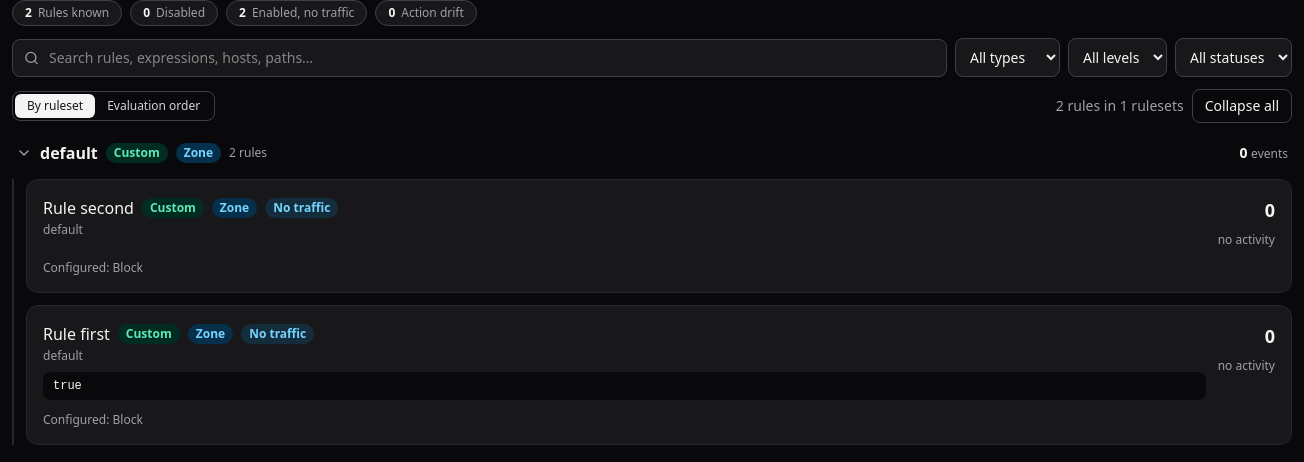
it: RulesReview grouped by ruleset › switches to evaluation order: entrypoint first, then the executed ruleset's rules in position
Click the button "Evaluation order" at [154, 106], box left=95, top=94, right=212, bottom=118
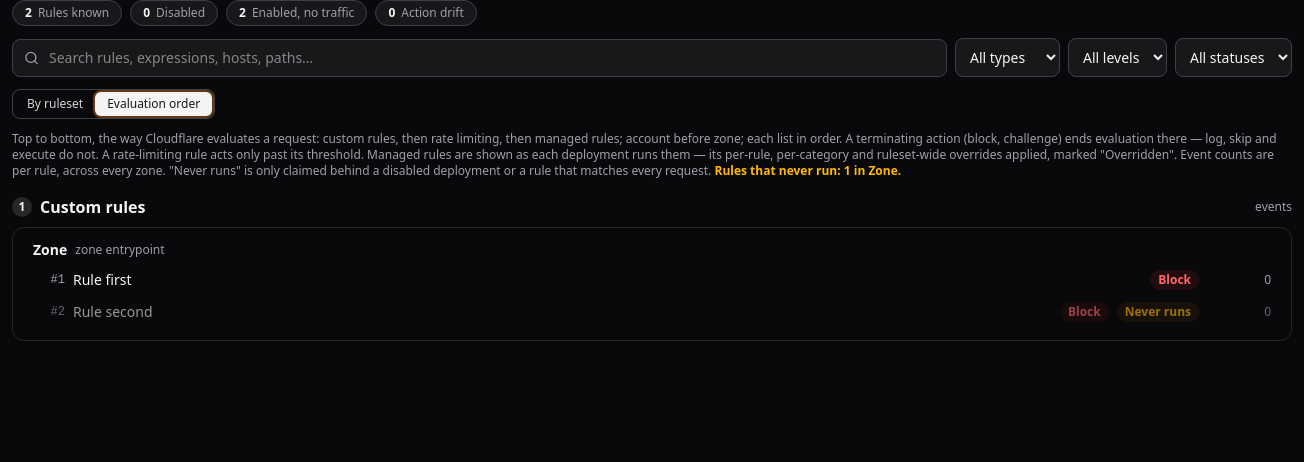
Now the button "#2 Rule second Block Never runs 0" is shown, box left=25, top=296, right=1279, bottom=328
